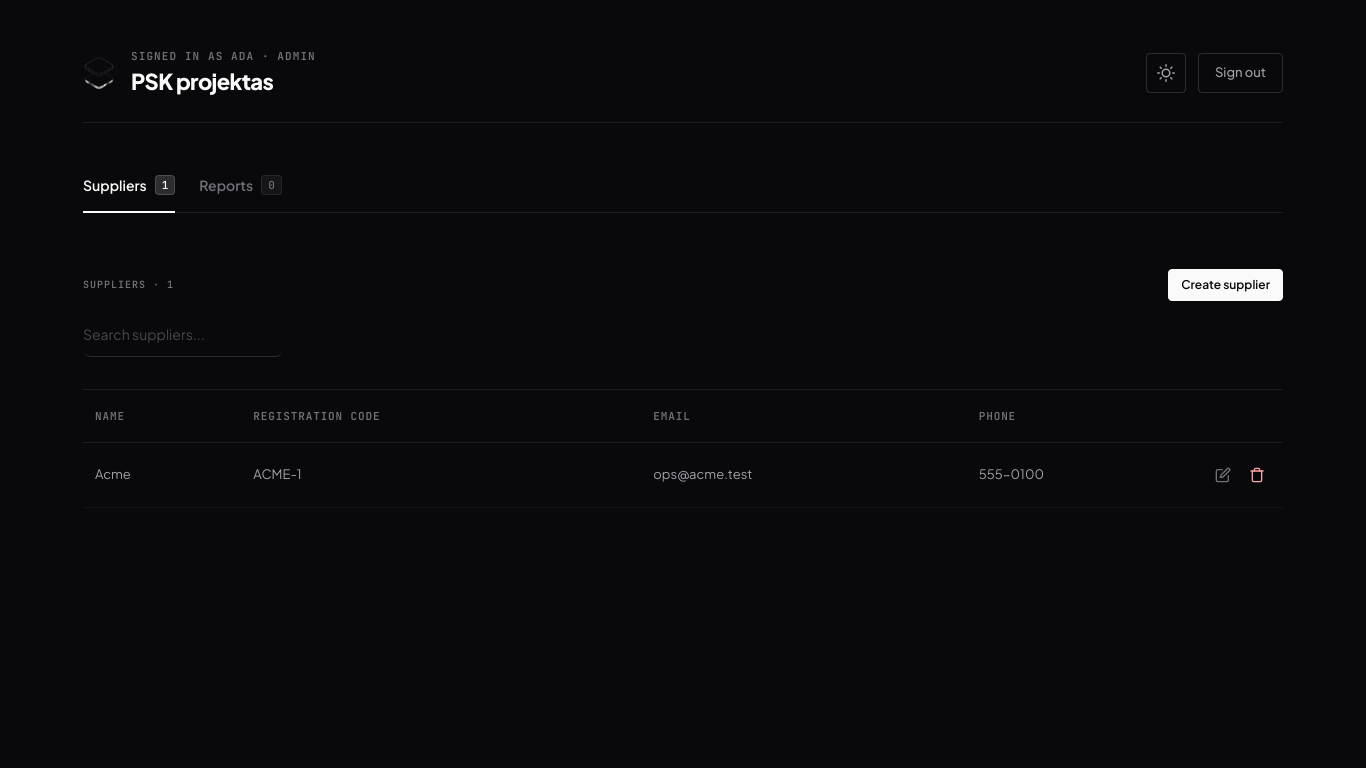
it: Dashboard › loads and filters the active suppliers report
Expected: the button "Acme" is shown, 95,465 -> 229,485
Click the button "Reports 0" at (241, 187), box 199,162 -> 282,212
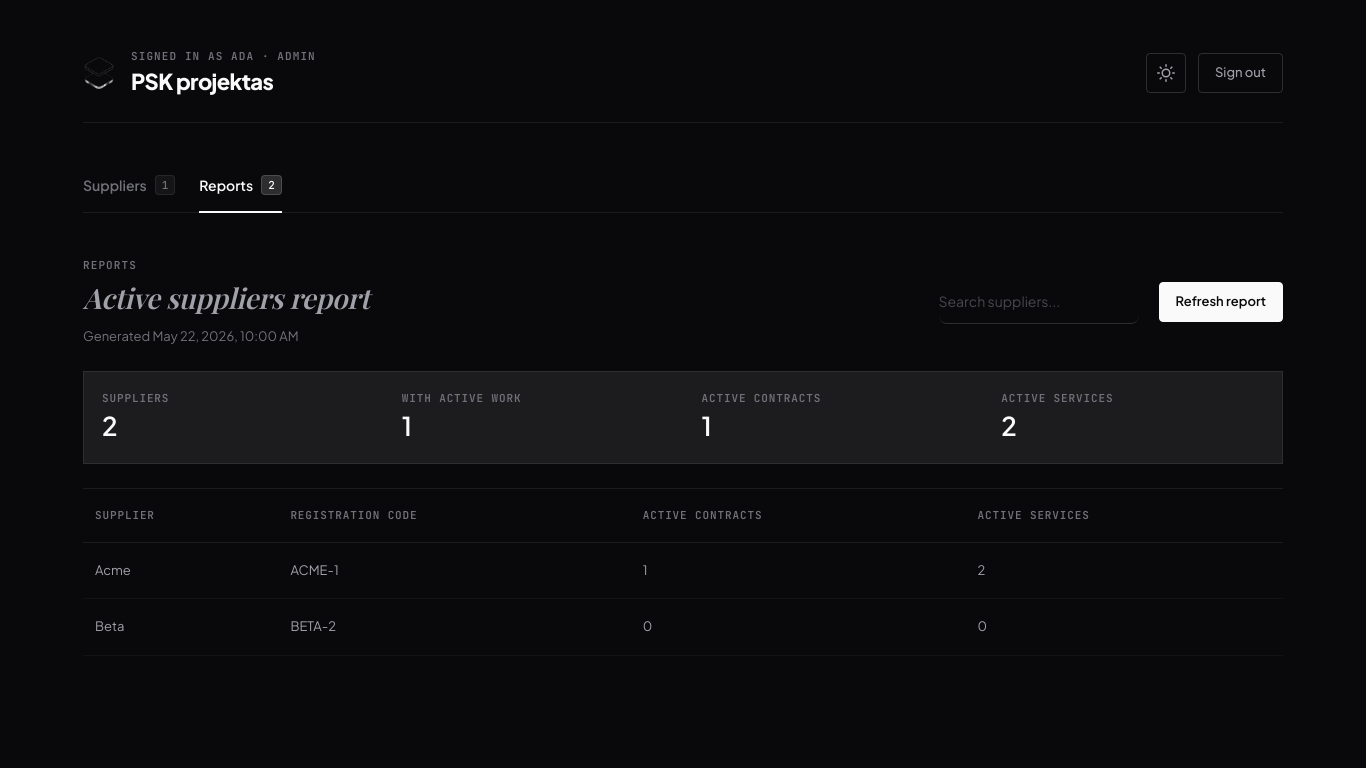
Expected: the text "ACME-1" is shown, 278,542 -> 631,598
Expected: the heading "Active suppliers report" is shown, 83,277 -> 369,319
Expected: the text "BETA-2" is shown, 278,598 -> 631,655
Type "Beta" into the field with placeholder "Search suppliers..." at (1038, 302), box 938,280 -> 1138,324
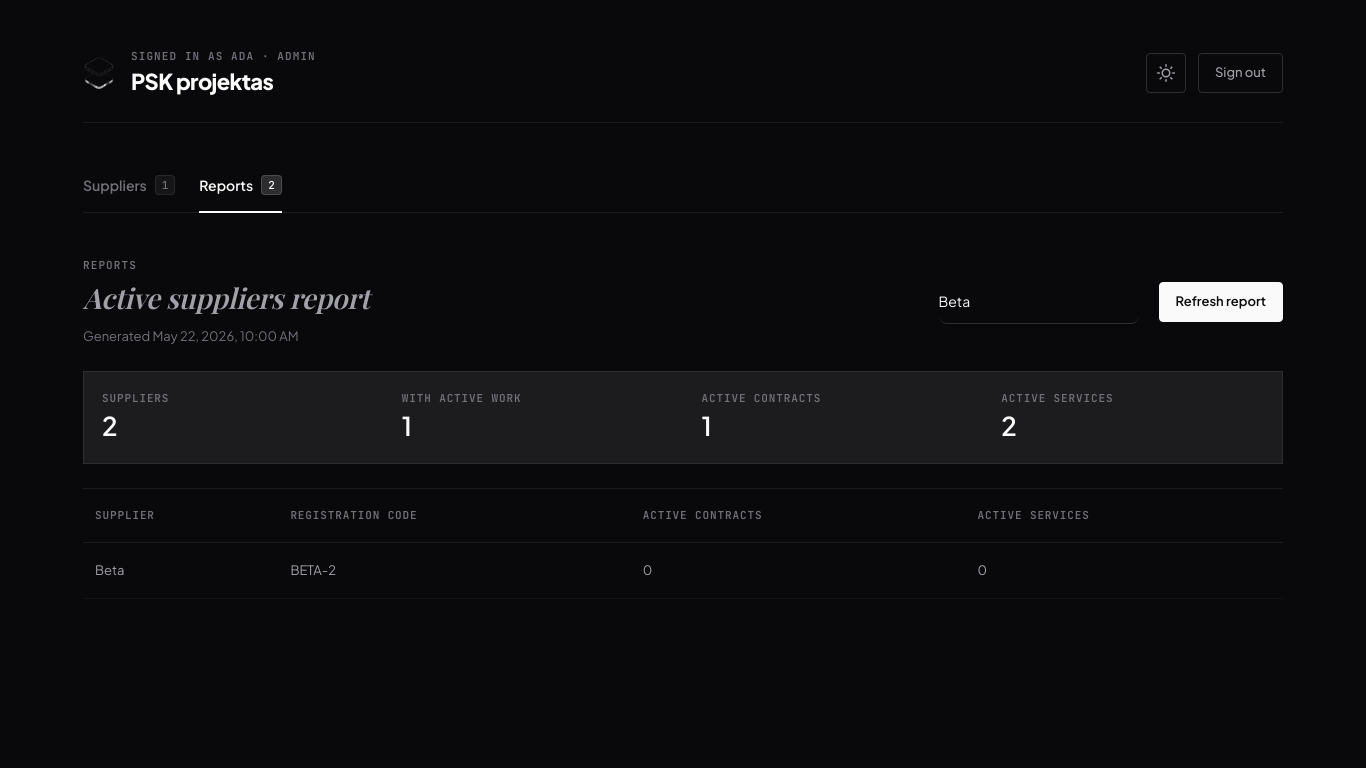
Expected: the text "BETA-2" is shown, 278,542 -> 631,598
Expected: the text "ACME-1" is gone
